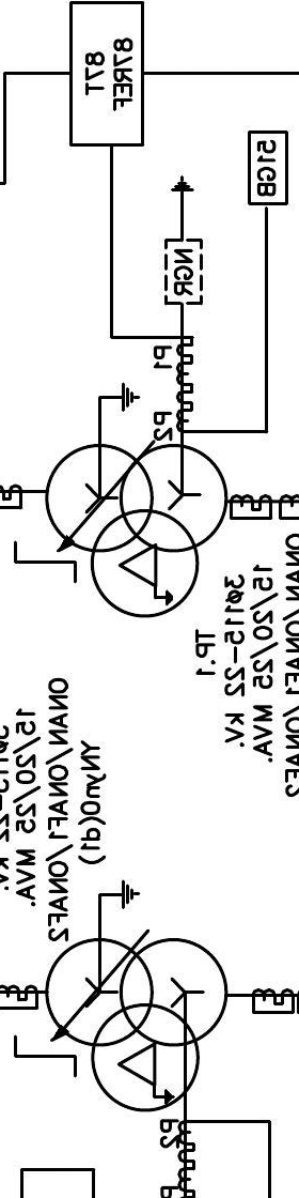11522_tx_ynyn0d1: (44, 443, 229, 619), (44, 937, 229, 1113)
NGR_future: (164, 175, 204, 306)
